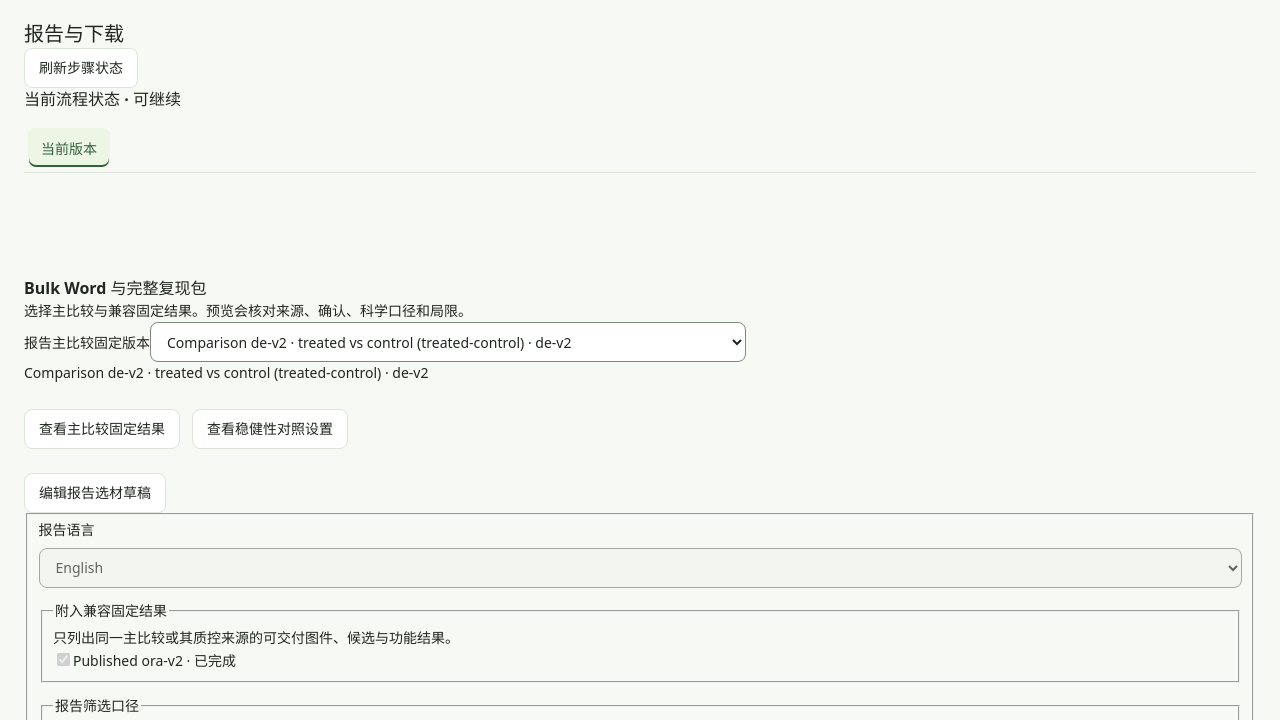
reopens the fixed Bulk attachments and language with the separate edited draft available
The image size is (1280, 720).
Earlier steps of the test are not shown.
Expected: the checkbox labelled "Published ora-v2 · 已完成" is checked, [57, 652, 70, 666]
Expected: the dropdown labelled "报告语言" shows "English", [38, 548, 1242, 588]
Click the button "编辑报告选材草稿". click: [95, 493]
box: [24, 473, 166, 513]
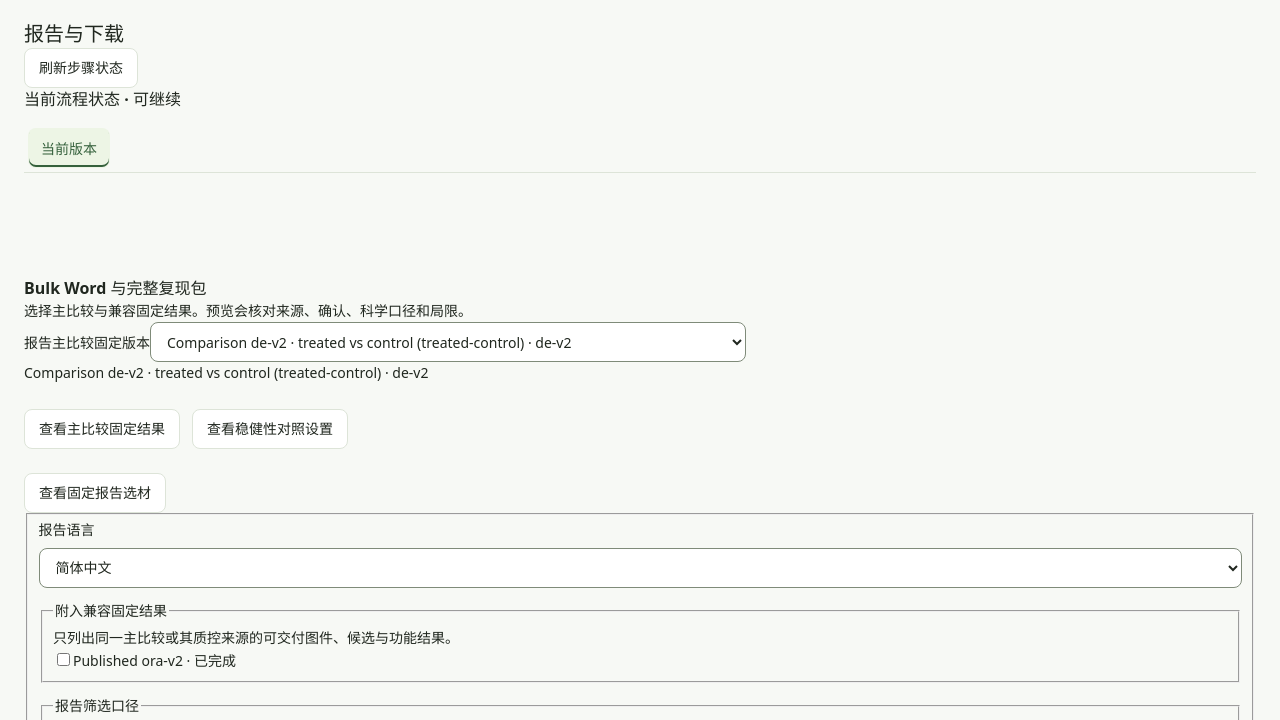
Result: the checkbox labelled "Published ora-v2 · 已完成" is not checked at [57, 652, 70, 666]
Result: the dropdown labelled "报告语言" shows "简体中文" at [38, 548, 1242, 588]
